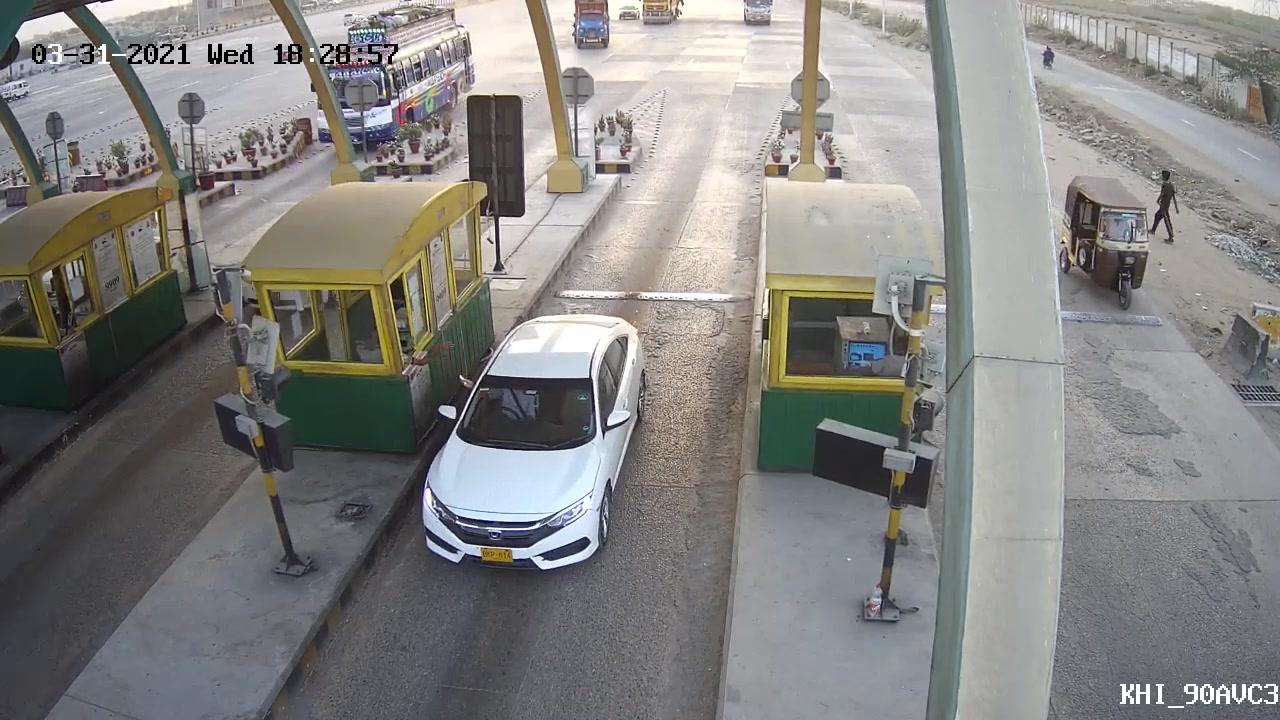F1: (410, 305, 658, 581)
